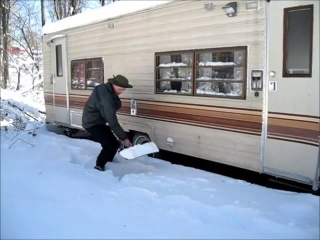person: (80, 73, 140, 174)
